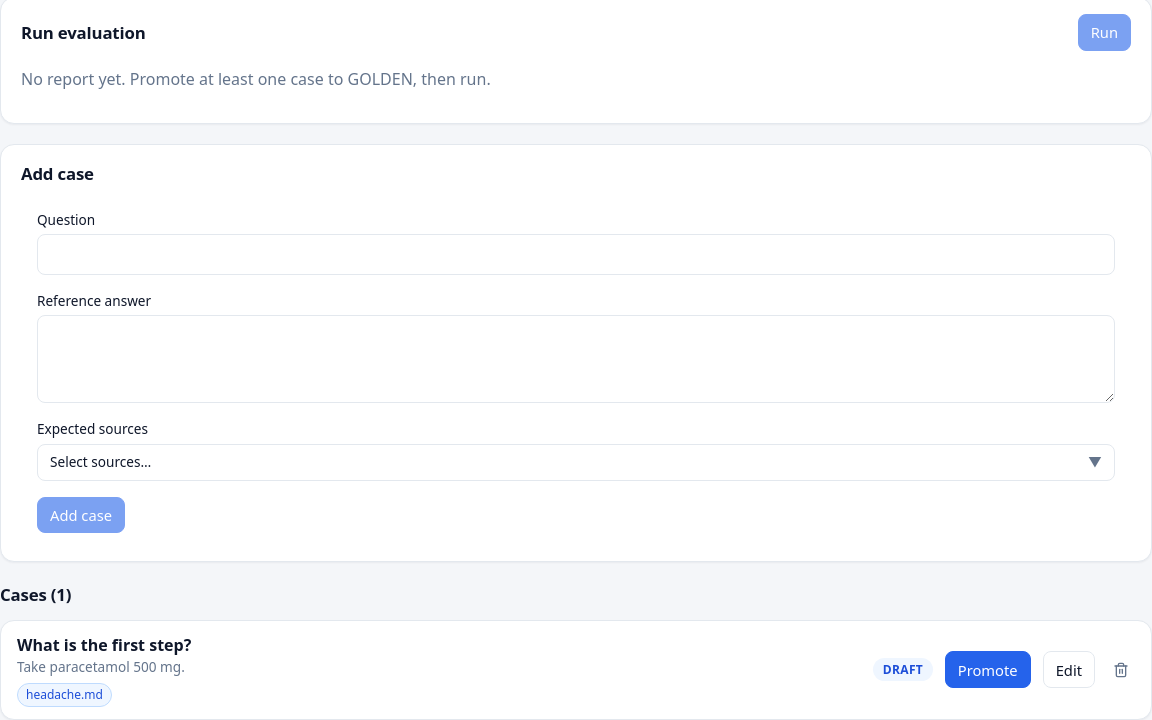
Test case: GoldenCasesPage › deletes a case after confirmation
The width and height of the screenshot is (1152, 720).
(page scrolled)
Check: the text "What is the first step?" is shown, box [17,634,191,656]
Click the button named "Delete case What is the first step?".
click(1121, 670)  # box [1107,656,1135,684]
(page scrolled)
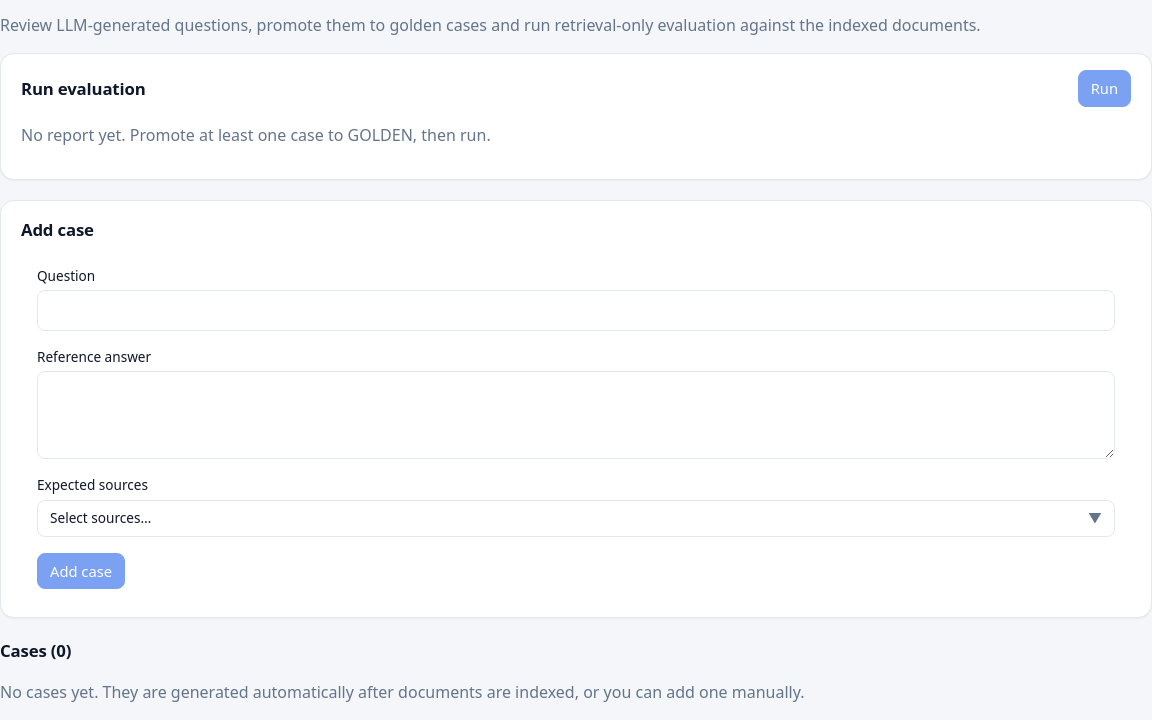
Check: the text "No cases yet" is shown, box [0,681,804,703]
